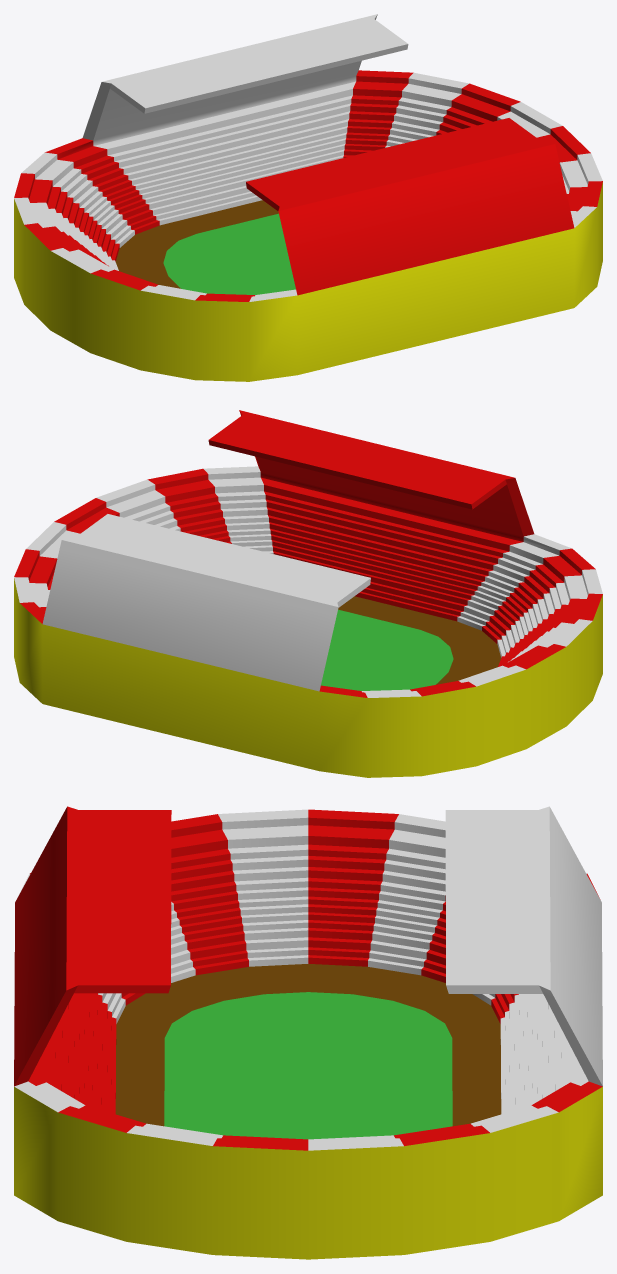
The model's file is stadium.fbx.
3 renders of one model, top to bottom at view 1: azimuth 30°, elevation 25°; view 2: azimuth 150°, elevation 25°; view 3: azimuth 270°, elevation 25°, orthographic. The views are drawn at different scales.
Parts seen in each view (by area): view 1: pCylinder1; view 2: pCylinder1; view 3: pCylinder1.
Boxes of the visible parts, x1,y1,x2,y2 form: pCylinder1: (14,14,602,381); pCylinder1: (14,410,602,777); pCylinder1: (14,806,602,1259).
Bounding box in the file's own units: 21.79 × 6.1 × 15.9.
